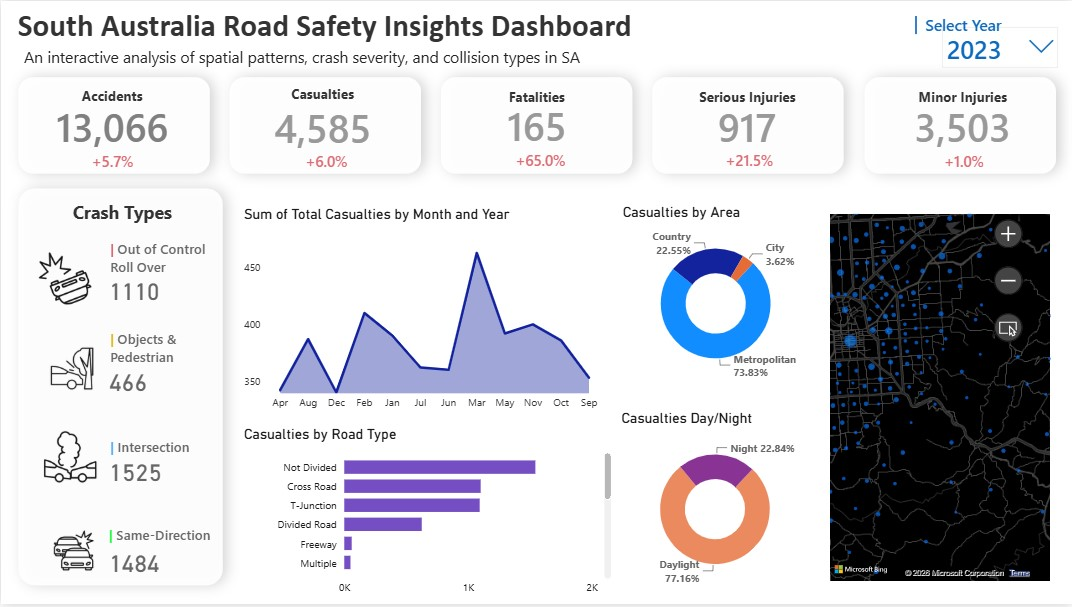

This screenshot's page, from the dashboard's own definition file:
{"tool":"powerbi","page":{"name":"Page 1","canvas":[1280,720],"ordinal":0},"visuals":[{"type":"group","id":"g1","title":"Group 2","box":[286.1,100.1,195,119.4],"z":0,"group":"g3"},{"type":"group","id":"g2","title":"Group 3","box":[286.1,100.1,195,119.4],"z":0,"group":"g1"},{"type":"cardVisual","title":"Casualties","fields":{"Data":["bb05bb0d-f9a4-4638-8992-81d5fb9.CY Casualties"]},"box":[286.1,100.1,195,87.5],"z":0,"group":"g2"},{"type":"cardVisual","title":"Accidents","fields":{"Data":["bb05bb0d-f9a4-4638-8992-81d5fb9.Total CY Accidents"]},"box":[35.2,101.9,194,84],"z":0,"group":"g4"},{"type":"cardVisual","title":" Minor Injuries","fields":{"Data":["bb05bb0d-f9a4-4638-8992-81d5fb9.CY Casualties"]},"box":[1050,102.5,195.3,82.7],"z":0,"group":"g7"},{"type":"cardVisual","title":" Serious Injuries","fields":{"Data":["bb05bb0d-f9a4-4638-8992-81d5fb9.CY Casualties"]},"box":[792,102.9,197.3,82],"z":0,"group":"g6"},{"type":"cardVisual","title":"Fatalities","fields":{"Data":["bb05bb0d-f9a4-4638-8992-81d5fb9.CY Casualties"]},"box":[541.4,103.1,196.2,81.5],"z":0,"group":"g5"},{"type":"shape","title":"LEFT Bottom","box":[0,202.9,285.7,515.7],"z":0},{"type":"cardVisual","fields":{"Data":["bb05bb0d-f9a4-4638-8992-81d5fb9.YoY Casualties"]},"box":[835.4,156,131.5,65.1],"z":1000,"group":"g6"},{"type":"cardVisual","fields":{"Data":["bb05bb0d-f9a4-4638-8992-81d5fb9.YoY Casualties"]},"box":[584.8,156.2,130.3,63.9],"z":1000,"group":"g5"},{"type":"cardVisual","fields":{"Data":["bb05bb0d-f9a4-4638-8992-81d5fb9.YoY Casualties"]},"box":[333.2,159.2,131.5,60.3],"z":1000,"group":"g2"},{"type":"cardVisual","fields":{"Data":["bb05bb0d-f9a4-4638-8992-81d5fb9.YoY Casualties"]},"box":[1095.8,159.2,131.5,60.3],"z":1000,"group":"g7"},{"type":"cardVisual","fields":{"Data":["bb05bb0d-f9a4-4638-8992-81d5fb9.YoY Accidents"]},"box":[78.6,159.8,131.5,61.5],"z":1000,"group":"g4"},{"type":"cardVisual","title":"vasdv","fields":{"Data":["bb05bb0d-f9a4-4638-8992-81d5fb9.CY Casualties"],"Rows":["bb05bb0d-f9a4-4638-8992-81d5fb9.Crash Type (groups)"]},"box":[97.1,267.1,378.6,434.3],"z":1000},{"type":"shape","title":"Card 1","box":[0,70,270.2,156.8],"z":2000},{"type":"shape","title":"Card 3","box":[504.9,70,270.2,156.8],"z":3000},{"type":"image","box":[24.3,273.4,105.7,117.1],"z":3000,"group":"g8"},{"type":"shape","title":"Card 2","box":[252.4,70,270.2,156.8],"z":4000},{"type":"shape","title":"Card 4","box":[757.3,70,270.2,156.8],"z":5000},{"type":"image","box":[42.9,383.4,91.4,110],"z":5000,"group":"g8"},{"type":"shape","title":"Card 5","box":[1009.8,70,270.2,156.8],"z":6000},{"type":"image","box":[31.4,469.1,98.6,151.4],"z":7000,"group":"g8"},{"type":"slicer","title":"Select Year","fields":{"Values":["Calendar.Year"]},"box":[1117.1,24.3,152.9,67.1],"z":8000},{"type":"image","box":[50,596.3,77.1,122.9],"z":9000,"group":"g8"},{"type":"group","id":"g3","title":"Group 1","box":[286.1,100.1,195,119.4],"z":10000},{"type":"group","id":"g4","title":"Group 1","box":[35.2,101.9,194,119.4],"z":11000},{"type":"group","id":"g5","title":"Group 3","box":[541.4,103.1,196.2,117],"z":12000},{"type":"group","id":"g6","title":"Group 3","box":[792,102.9,197.3,118.2],"z":13000},{"type":"group","id":"g7","title":"Group 3","box":[1050,102.5,195.3,117],"z":14000},{"type":"textbox","box":[14.3,1.4,748.6,67.1],"z":15000},{"type":"textbox","box":[80,232.9,165.7,68.6],"z":16000},{"type":"areaChart","fields":{"Category":["Calendar.Month"],"Y":["Sum(bb05bb0d-f9a4-4638-8992-81d5fb9.Total Casualties)"],"Series":["Calendar.Date.Variation.Date Hierarchy.Year"]},"box":[285.7,244.7,435.7,252.9],"z":17000},{"type":"donutChart","title":"Casualties by Area","fields":{"Y":["bb05bb0d-f9a4-4638-8992-81d5fb9.CY Casualties"],"Category":["bb05bb0d-f9a4-4638-8992-81d5fb9.Stats Area.2"]},"box":[737.5,241.9,232.5,220],"z":18000},{"type":"donutChart","title":"Casualties Day/Night","fields":{"Y":["bb05bb0d-f9a4-4638-8992-81d5fb9.CY Casualties"],"Category":["bb05bb0d-f9a4-4638-8992-81d5fb9.DayNight"]},"box":[736.2,488.1,233.8,218.8],"z":19000},{"type":"barChart","title":"Casualties by Road Type","fields":{"Y":["bb05bb0d-f9a4-4638-8992-81d5fb9.CY Casualties"],"Category":["bb05bb0d-f9a4-4638-8992-81d5fb9.Position Type"]},"box":[285.7,507.6,448.6,211.4],"z":20000},{"type":"map","title":"Casualties by Location","fields":{"Size":["bb05bb0d-f9a4-4638-8992-81d5fb9.CY Casualties"],"Category":["bb05bb0d-f9a4-4638-8992-81d5fb9.Full_Address"]},"box":[985.7,230.4,272.9,468.6],"z":21000},{"type":"textbox","box":[124.7,278.6,240,55.7],"z":22000},{"type":"textbox","box":[124.7,387.1,238.6,57.1],"z":23000},{"type":"textbox","box":[124.7,515.7,125.7,55.7],"z":24000},{"type":"textbox","box":[124.3,621.4,145.7,55.7],"z":25000},{"type":"group","id":"g8","title":"Group 4","box":[24.3,273.4,110,445.7],"z":26000},{"type":"textbox","box":[1098.6,10,115.7,44.3],"z":27000},{"type":"shape","box":[974.2,18.3,235.8,21.7],"z":28000},{"type":"textbox","box":[22.9,48.6,700,40],"z":29000}]}

Visuals, with their boxes in screenshot pixels (x1, y1, x2, y2), scaled from the page's 1280x720 canvas onto the 1072x607 screenshot:
"Group 2" group: Rect(240, 84, 403, 185)
"Group 3" group: Rect(240, 84, 403, 185)
"Casualties" cardVisual: Rect(240, 84, 403, 158)
"Accidents" cardVisual: Rect(29, 86, 192, 157)
" Minor Injuries" cardVisual: Rect(879, 86, 1043, 156)
" Serious Injuries" cardVisual: Rect(663, 87, 829, 156)
"Fatalities" cardVisual: Rect(453, 87, 618, 156)
"LEFT Bottom" shape: Rect(0, 171, 239, 606)
cardVisual - bb05bb0d-f9a4-4638-8992-81d5fb9.YoY Casualties: Rect(700, 132, 810, 186)
cardVisual - bb05bb0d-f9a4-4638-8992-81d5fb9.YoY Casualties: Rect(490, 132, 599, 186)
cardVisual - bb05bb0d-f9a4-4638-8992-81d5fb9.YoY Casualties: Rect(279, 134, 389, 185)
cardVisual - bb05bb0d-f9a4-4638-8992-81d5fb9.YoY Casualties: Rect(918, 134, 1028, 185)
cardVisual - bb05bb0d-f9a4-4638-8992-81d5fb9.YoY Accidents: Rect(66, 135, 176, 187)
"vasdv" cardVisual: Rect(81, 225, 398, 591)
"Card 1" shape: Rect(0, 59, 226, 191)
"Card 3" shape: Rect(423, 59, 649, 191)
image: Rect(20, 230, 109, 329)
"Card 2" shape: Rect(211, 59, 438, 191)
"Card 4" shape: Rect(634, 59, 861, 191)
image: Rect(36, 323, 112, 416)
"Card 5" shape: Rect(846, 59, 1071, 191)
image: Rect(26, 395, 109, 523)
"Select Year" slicer: Rect(936, 20, 1064, 77)
image: Rect(42, 503, 106, 606)
"Group 1" group: Rect(240, 84, 403, 185)
"Group 1" group: Rect(29, 86, 192, 187)
"Group 3" group: Rect(453, 87, 618, 186)
"Group 3" group: Rect(663, 87, 829, 186)
"Group 3" group: Rect(879, 86, 1043, 185)
textbox: Rect(12, 1, 639, 58)
textbox: Rect(67, 196, 206, 254)
areaChart - Calendar.Month x Sum(bb05bb0d-f9a4-4638-8992-81d5fb9.Total Casualties): Rect(239, 206, 604, 420)
"Casualties by Area" donutChart: Rect(618, 204, 812, 389)
"Casualties Day/Night" donutChart: Rect(617, 411, 812, 596)
"Casualties by Road Type" barChart: Rect(239, 428, 615, 606)
"Casualties by Location" map: Rect(826, 194, 1054, 589)
textbox: Rect(104, 235, 305, 282)
textbox: Rect(104, 326, 304, 374)
textbox: Rect(104, 435, 210, 482)
textbox: Rect(104, 524, 226, 571)
"Group 4" group: Rect(20, 230, 112, 606)
textbox: Rect(920, 8, 1017, 46)
shape: Rect(816, 15, 1013, 34)
textbox: Rect(19, 41, 605, 75)
